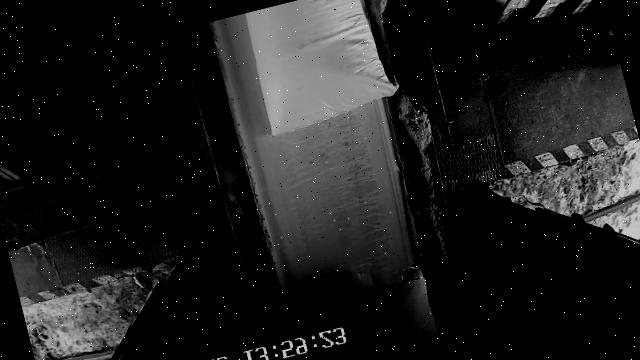bag: (242, 0, 403, 134), (330, 258, 439, 358)
